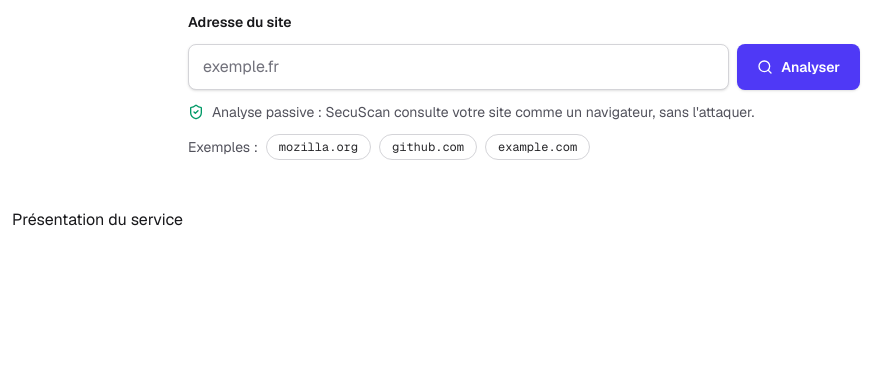
ScanApp › affiche le message de l'API pour une adresse refusée
Type "localhost" into the field labelled "Adresse du site".
click(459, 67); type("localhost")  # box x1=188 y1=44 x2=729 y2=90
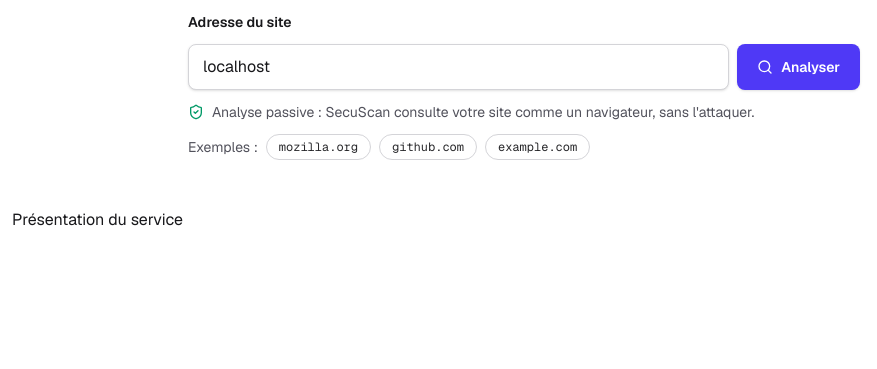
Click the button "Analyser".
click(799, 67)  # box x1=737 y1=44 x2=860 y2=90
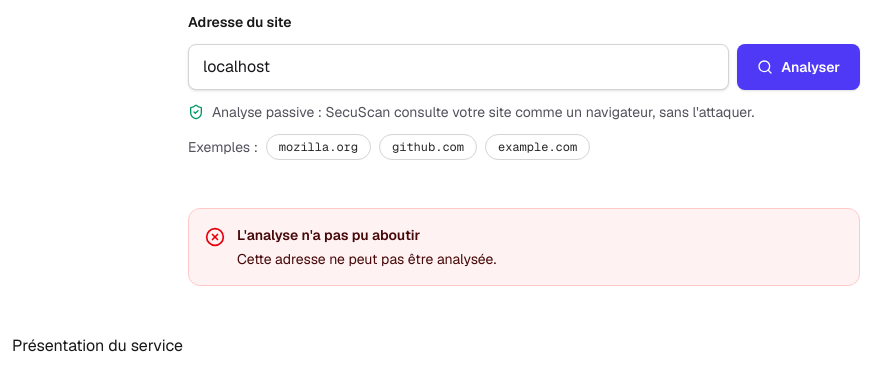
Check: the message shows "Cette adresse ne peut pas être analysée.", box x1=237 y1=250 x2=496 y2=268
